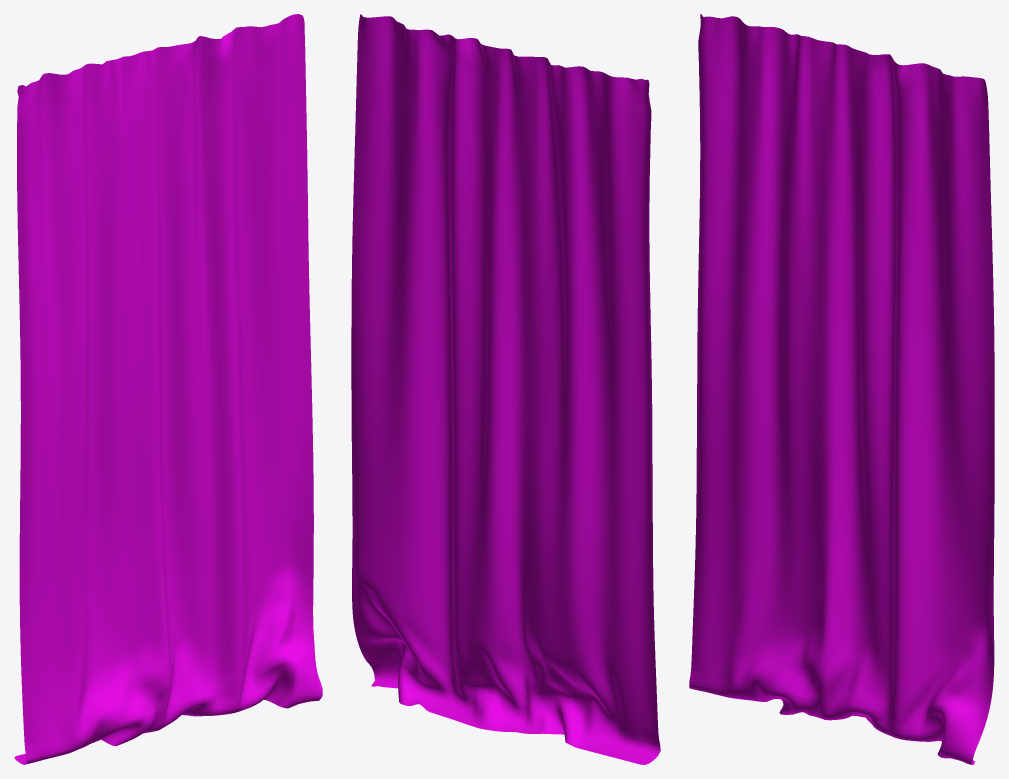
The model's file is OM_3BHK_DM_Curtain_02.fbx.
The picture shows the model from 3 angles, left to right: view 1: azimuth 30°, elevation 25°; view 2: azimuth 150°, elevation 25°; view 3: azimuth 330°, elevation 25°; orthographic projection.
Parts seen in each view (by area): view 1: OM_3BHK_DM_Curtain; view 2: OM_3BHK_DM_Curtain; view 3: OM_3BHK_DM_Curtain.
Boxes of the visible parts, x1,y1,x2,y2 form: OM_3BHK_DM_Curtain: [14, 14, 322, 764]; OM_3BHK_DM_Curtain: [351, 14, 660, 764]; OM_3BHK_DM_Curtain: [689, 14, 994, 764].
Size of the model in its own units: 1.23 by 2.69 by 0.1884.
